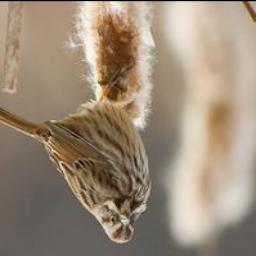Sparrow: (0, 60, 153, 246)
